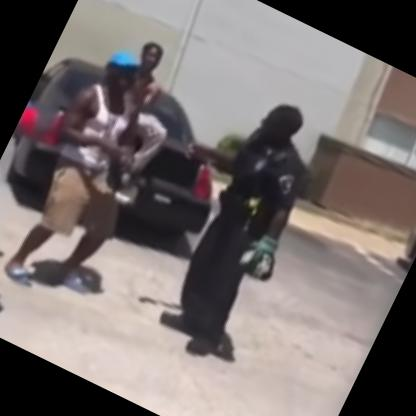Human Body: (110, 72, 338, 368), (0, 45, 185, 306), (66, 33, 204, 210)
